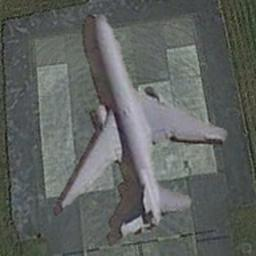Airplane: (52, 12, 228, 243)
